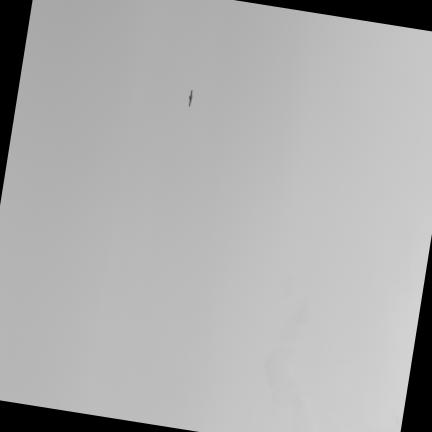Shahed: (188, 90, 192, 106)
